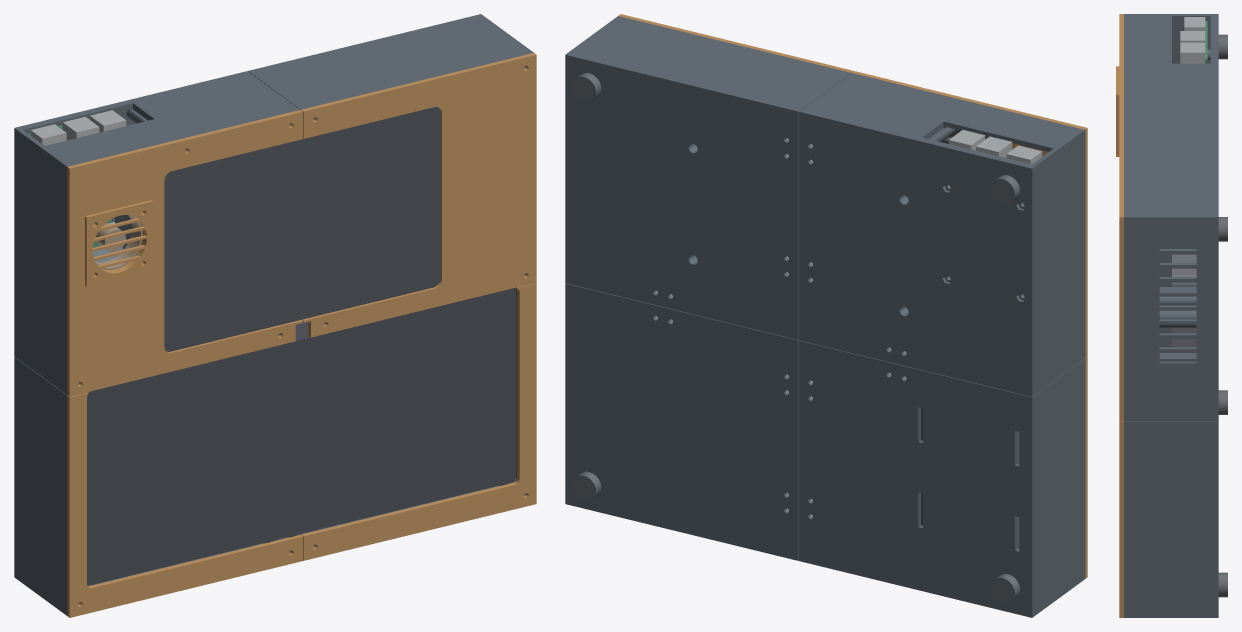
File: FIELDDECK_7.glb
The picture shows the model from 3 angles, left to right: view 1: azimuth 30°, elevation 25°; view 2: azimuth 150°, elevation 25°; view 3: azimuth 270°, elevation 25°; orthographic projection. The views are drawn at different scales.
Visible parts, largest first — view 1: keyboard_nominal_envelope, touch_display_2_manufacturer, face_rear_right, face_rear_left, tray_rear_left, tray_rear_right, tray_front_left, face_front_left, face_front_right, fan_guard, fan_envelope; view 2: tray_rear_left, tray_rear_right, tray_front_left, tray_front_right, face_rear_left, face_rear_right; view 3: tray_rear_right, tray_front_right, tray_rear_left, face_rear_right, tray_front_left, face_front_right, power_bank_nominal_envelope, pi4_usb_a_lower, face_rear_left, fan_guard, pi4_usb_a_upper, pi4_ethernet (+4 smaller).
Boxes of the visible parts, x1,y1,x2,y2 form: keyboard_nominal_envelope: (87,287,516,585); touch_display_2_manufacturer: (164,107,440,351); face_rear_right: (301,53,536,337); face_rear_left: (67,110,302,396); tray_rear_left: (14,71,299,394); tray_rear_right: (248,14,533,324); tray_front_left: (14,356,290,615); face_front_left: (67,392,302,617); face_front_right: (301,283,536,560); fan_guard: (85,200,152,286); fan_envelope: (95,215,142,269); tray_rear_left: (799,73,1085,396); tray_rear_right: (565,16,851,339); tray_front_left: (799,340,1085,617); tray_front_right: (565,283,798,560); face_rear_left: (852,71,1087,357); face_rear_right: (618,14,853,72); tray_rear_right: (1124,115,1218,420); tray_front_right: (1124,353,1218,617); tray_rear_left: (1124,14,1218,305); face_rear_right: (1119,115,1123,420); tray_front_left: (1159,240,1196,347); face_front_right: (1119,421,1123,617); power_bank_nominal_envelope: (1172,254,1196,347); pi4_usb_a_lower: (1180,42,1205,63); face_rear_left: (1119,14,1123,115); fan_guard: (1116,66,1119,156); pi4_usb_a_upper: (1180,31,1205,42); pi4_ethernet: (1184,17,1205,30).
Bounding box in the file's own units: 310 × 286 × 72.
